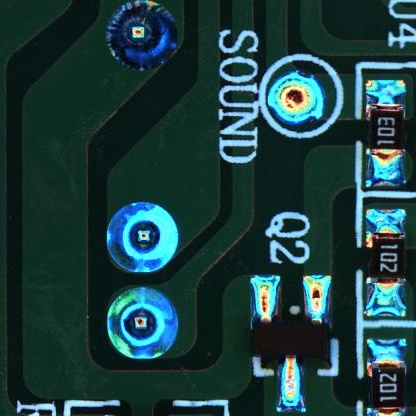spot: (105, 286, 179, 361), (105, 200, 178, 273), (105, 1, 179, 70), (267, 70, 326, 124)
